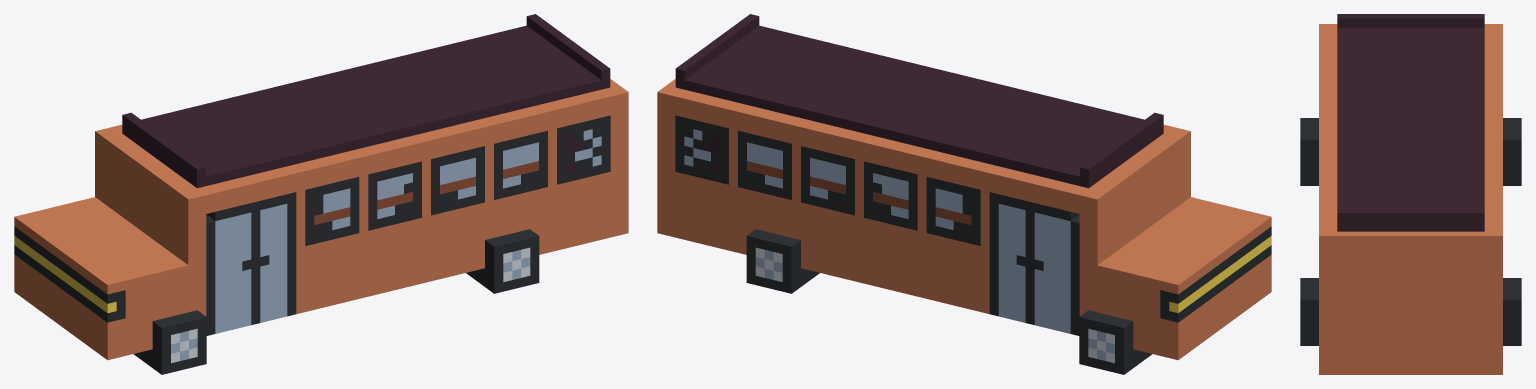
3 renders of one model, left to right at view 1: azimuth 30°, elevation 25°; view 2: azimuth 150°, elevation 25°; view 3: azimuth 270°, elevation 25°, orthographic.
Visible parts, largest first — view 1: generated; view 2: generated; view 3: generated.
Boxes of the visible parts, bbox=[...] form: generated: bbox=[14, 14, 628, 374]; generated: bbox=[657, 14, 1271, 374]; generated: bbox=[1300, 14, 1521, 374].
Bounding box in the file's own units: 580 × 190 × 216.
